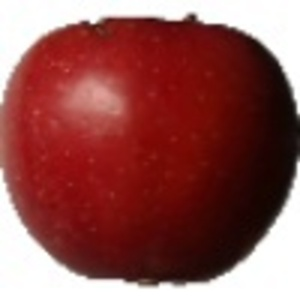maçã braeburn: (1, 11, 299, 286)
